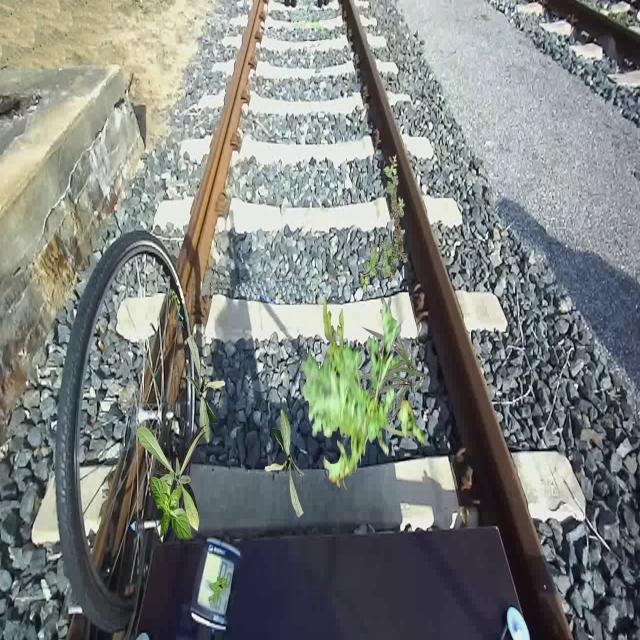Plant: (301, 295, 426, 491), (353, 298, 426, 422), (137, 424, 208, 532), (359, 154, 408, 292), (265, 408, 305, 518), (186, 335, 226, 445), (150, 471, 192, 542), (208, 573, 228, 606)
